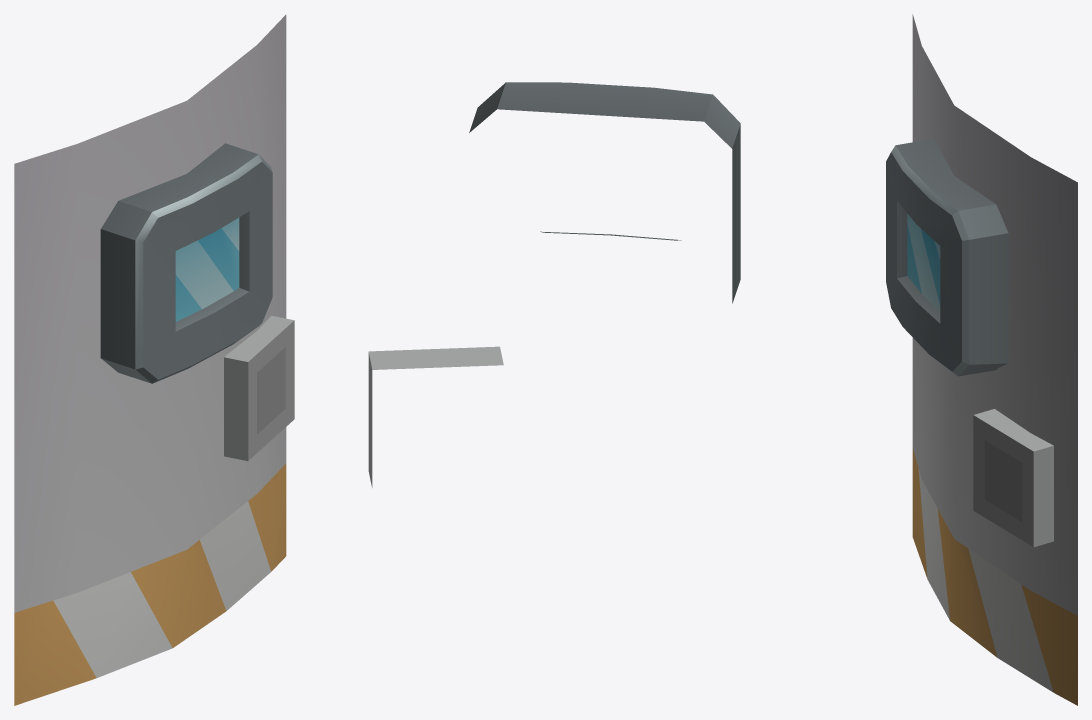
The model's file is ObservatoryDoor_8.glb.
3 renders of one model, left to right at view 1: azimuth 30°, elevation 25°; view 2: azimuth 150°, elevation 25°; view 3: azimuth 270°, elevation 25°, orthographic. The views are drawn at different scales.
Visible parts, largest first — view 1: ObservatoryDoor; view 2: ObservatoryDoor; view 3: ObservatoryDoor.
Part boxes in pixels (x1,y1,x2,y2): ObservatoryDoor: [14, 14, 294, 705]; ObservatoryDoor: [368, 82, 740, 487]; ObservatoryDoor: [886, 14, 1077, 705].
Bounding box in the file's own units: 1.24 × 1.8 × 0.5974.
